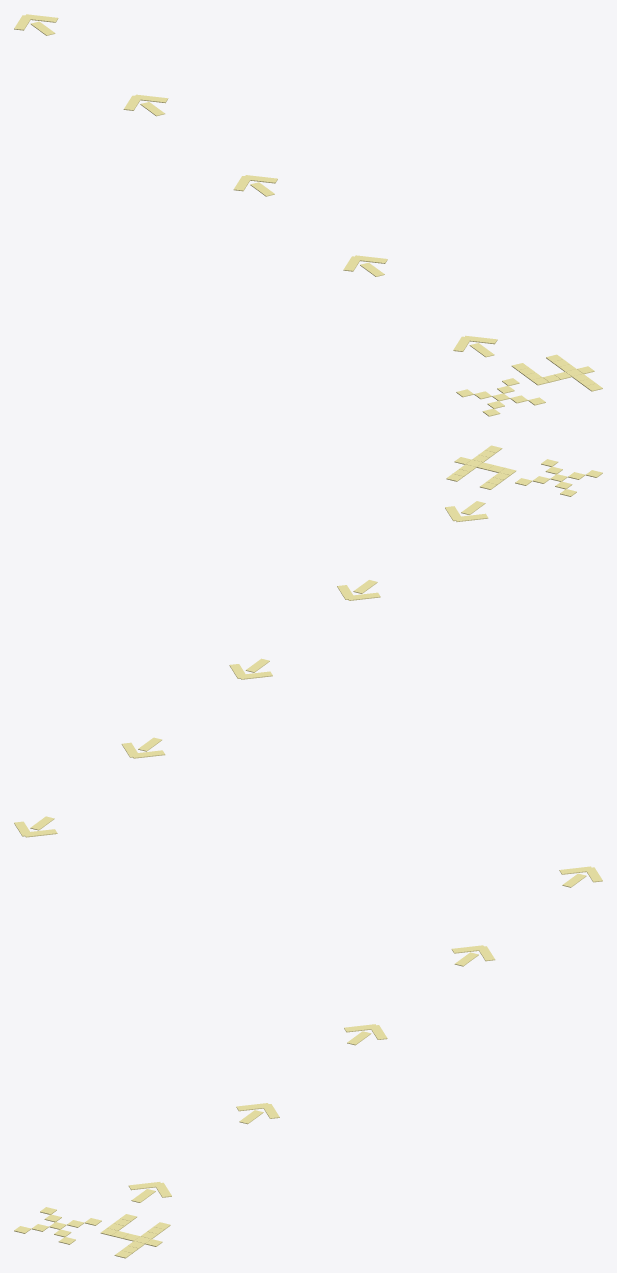
Rendered from tormenta_Marcas.glb.
3 views of the same model, one above another, from view 1: azimuth 30°, elevation 25°; view 2: azimuth 150°, elevation 25°; view 3: azimuth 330°, elevation 25° (orthographic).
Parts seen in each view (by area): view 1: Mapa_tormenta_Marcas; view 2: Mapa_tormenta_Marcas; view 3: Mapa_tormenta_Marcas.
Part boxes in pixels (x1=…): Mapa_tormenta_Marcas: x1=14, y1=14, x2=602, y2=416; Mapa_tormenta_Marcas: x1=14, y1=445, x2=602, y2=837; Mapa_tormenta_Marcas: x1=14, y1=866, x2=602, y2=1258.
Bounding box in the file's own units: 39.53 × 0.24 × 288.
Materials: 1 (1 with a texture image).
